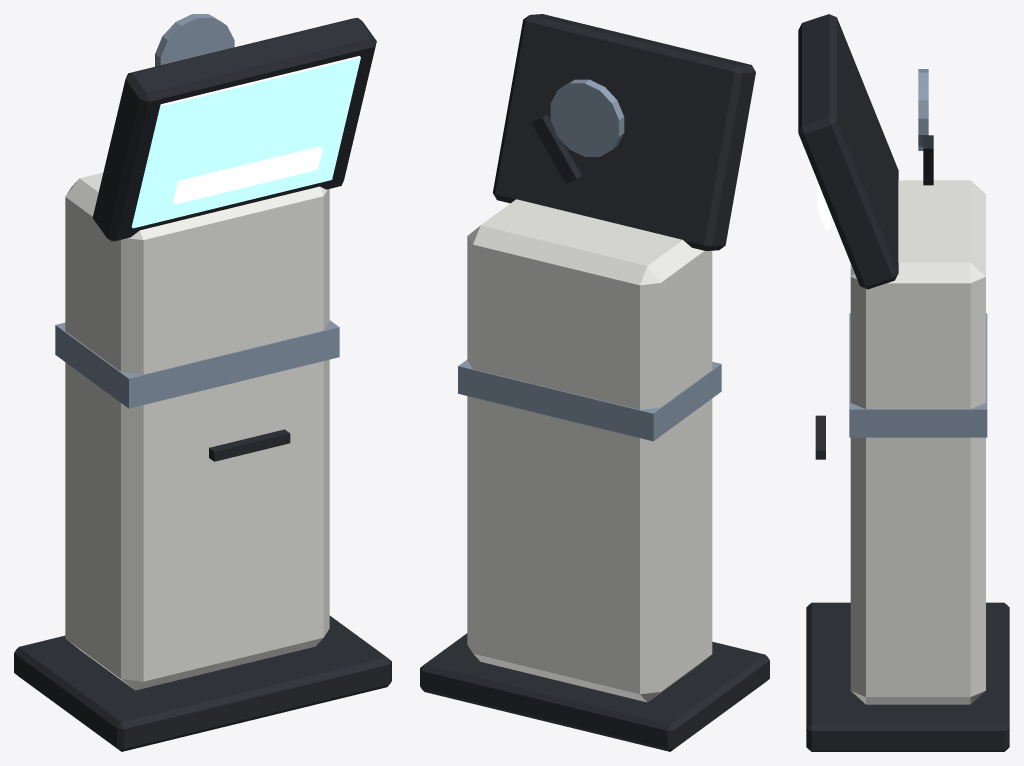
Rendered from selfservice_p2_3.glb.
3 renders of one model, left to right at view 1: azimuth 30°, elevation 25°; view 2: azimuth 150°, elevation 25°; view 3: azimuth 270°, elevation 25°, orthographic. The views are drawn at different scales.
Visible parts, largest first — view 1: selfservice_p2_3_mesh; view 2: selfservice_p2_3_mesh; view 3: selfservice_p2_3_mesh.
Boxes of the visible parts, <box> form: selfservice_p2_3_mesh: <box>14,14,391,751</box>; selfservice_p2_3_mesh: <box>420,14,769,751</box>; selfservice_p2_3_mesh: <box>798,14,1009,751</box>.
Size of the model in its own units: 0.58 by 1.35 by 0.4116.
